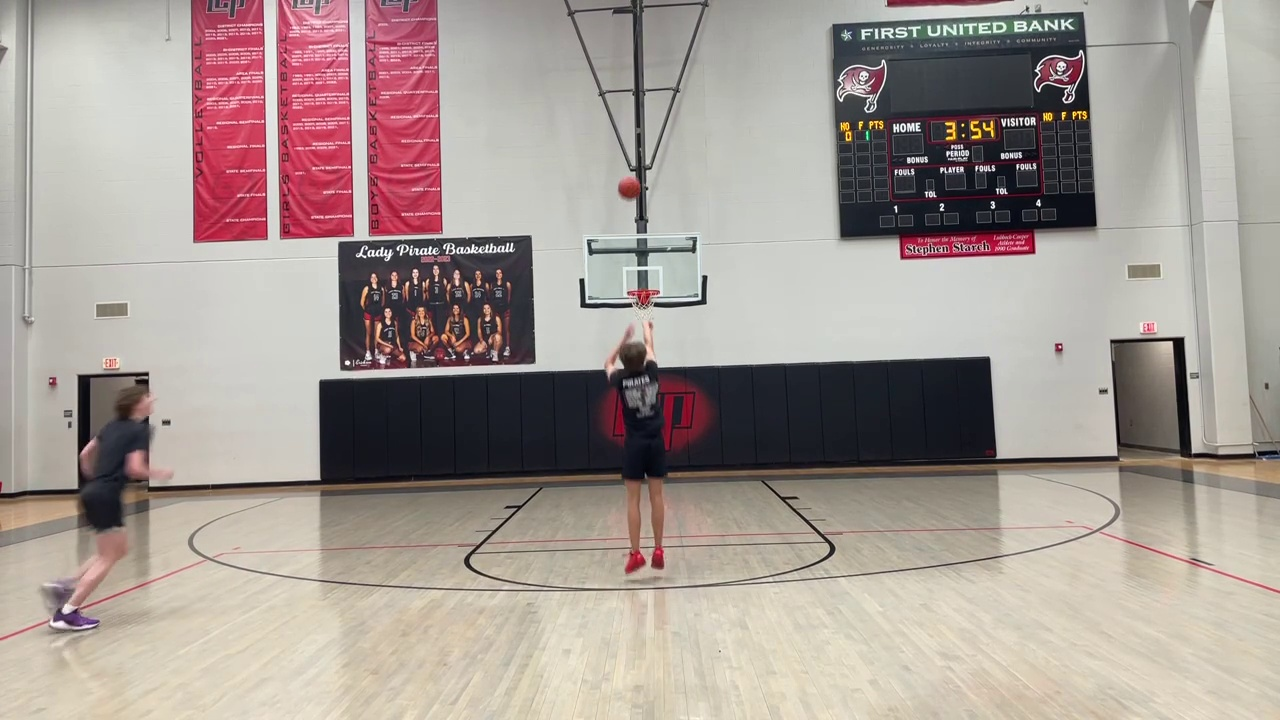shooting player: (602, 321, 670, 579)
